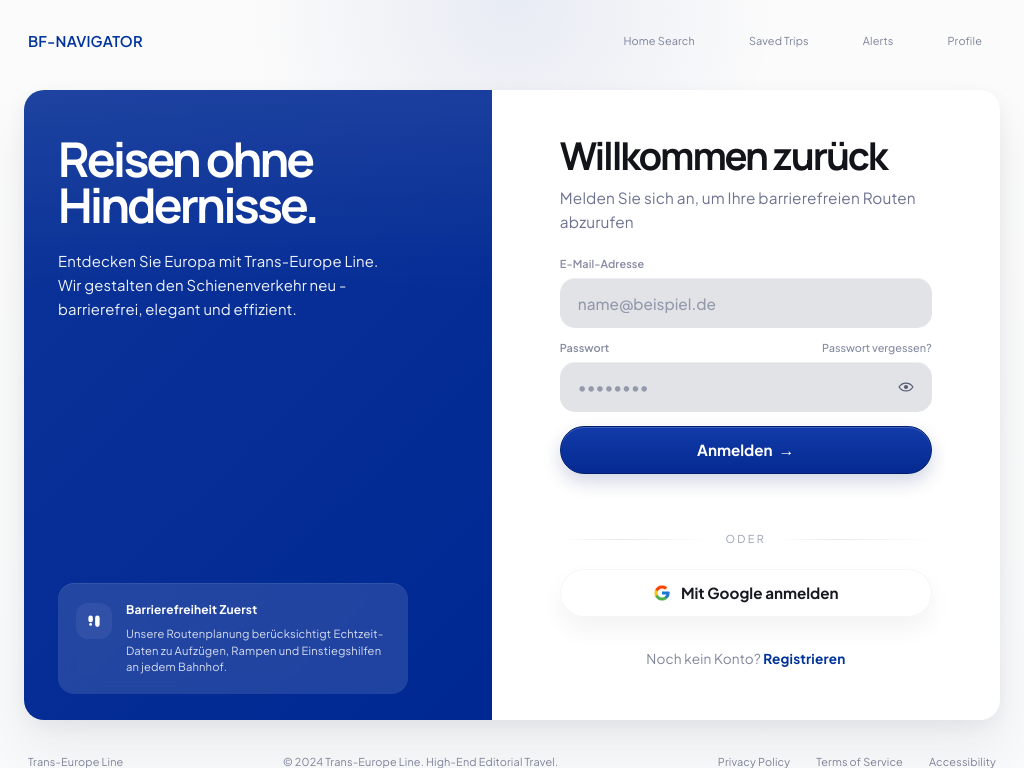
it: Login › shows a validation error for invalid email format
This screenshot has width=1024, height=768.
Type "not-an-email" into the field labelled "E-Mail-Adresse". click: {"x": 746, "y": 303}
box: [560,278,932,328]
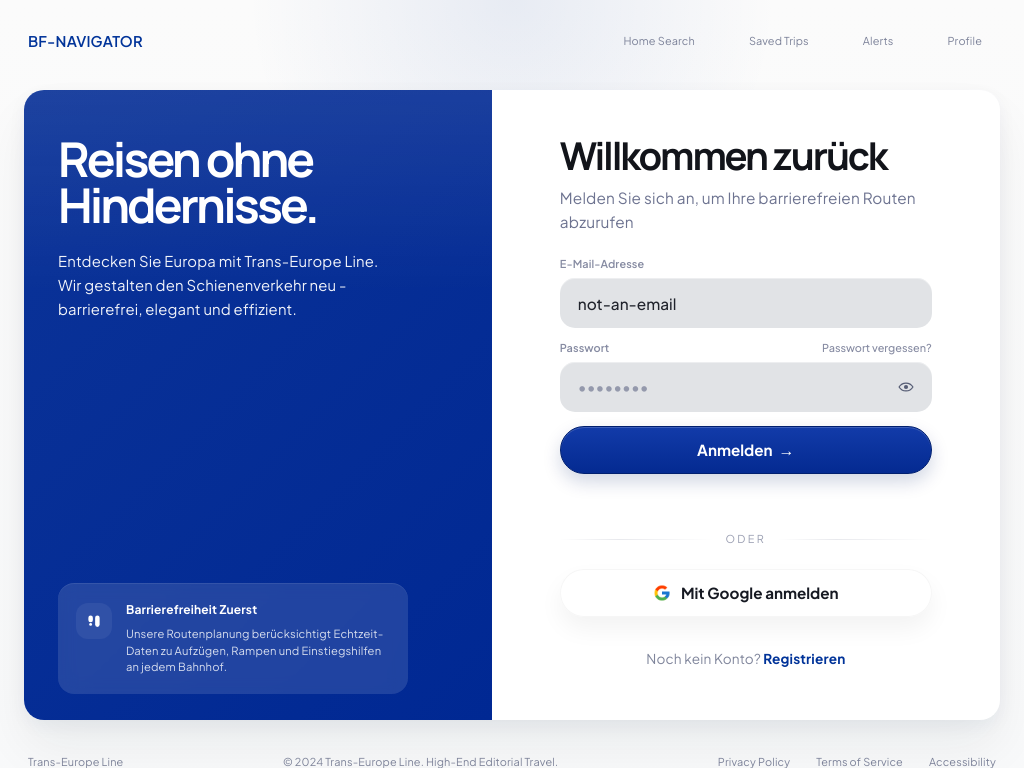
Type "supersecret" into the password field labelled "Passwort". click: {"x": 746, "y": 387}
box: [560,362,932,412]
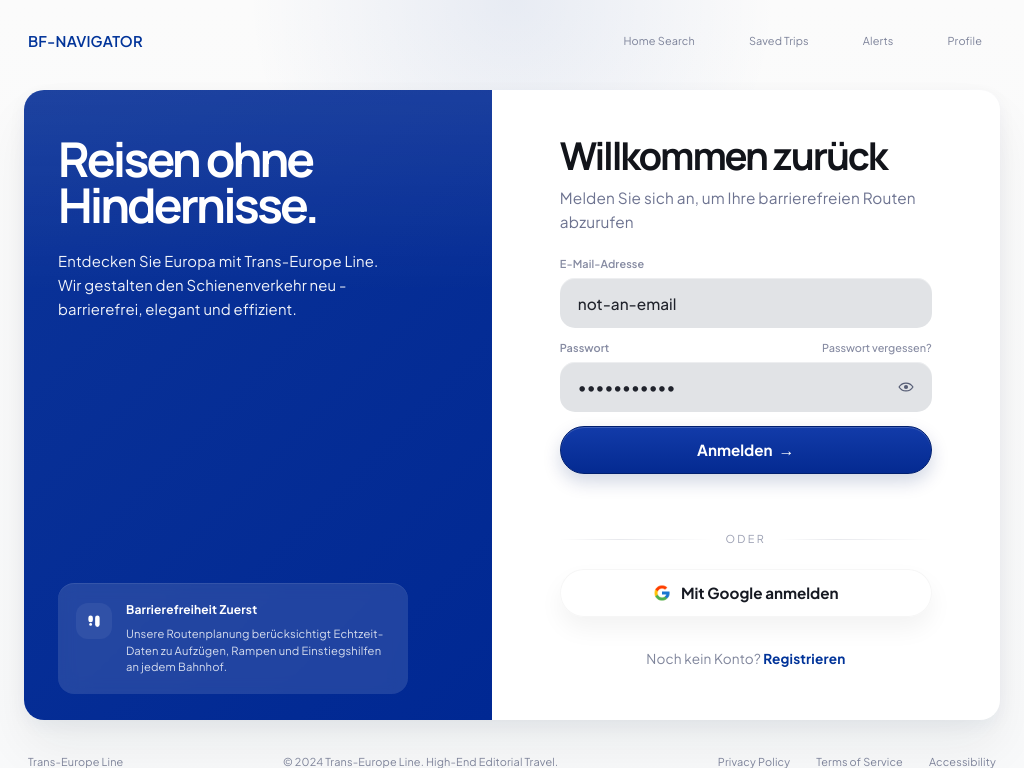
Click the button "Anmelden →". click: {"x": 746, "y": 450}
box: [560,426,932,474]
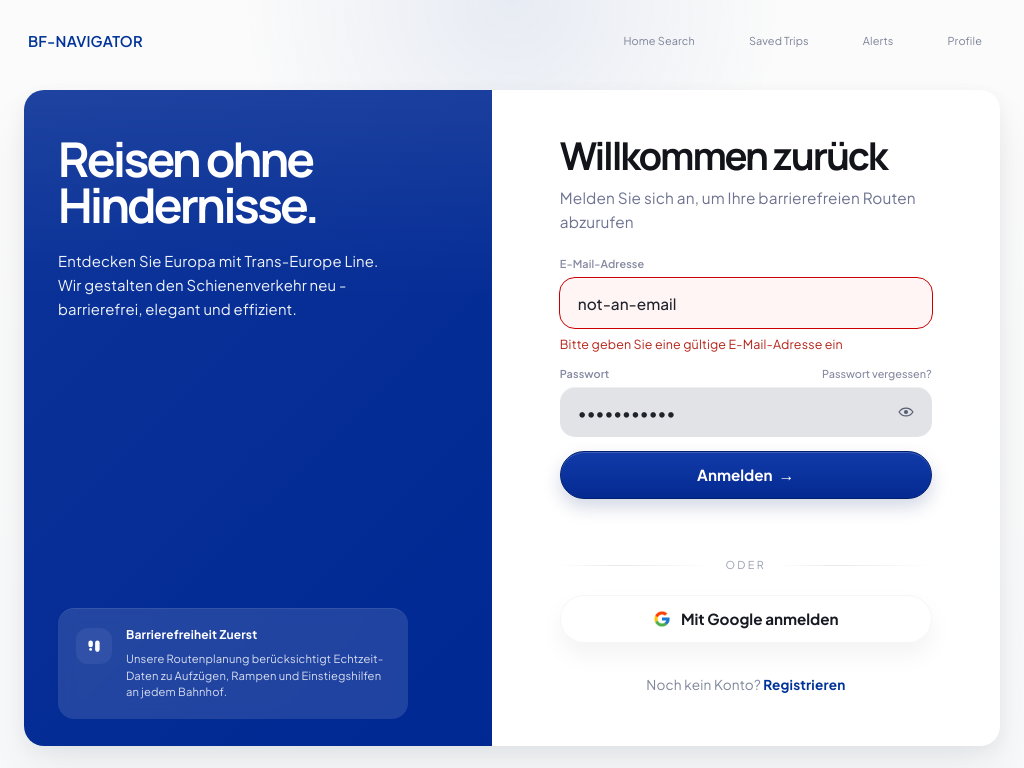
Expected: the text "Bitte geben Sie eine gültige E-Mail-Adresse ein" is shown, [560,336,843,352]
